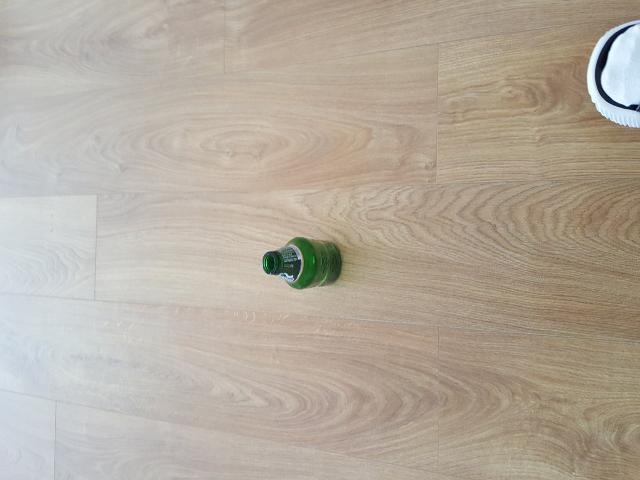beer: (262, 233, 343, 288)
